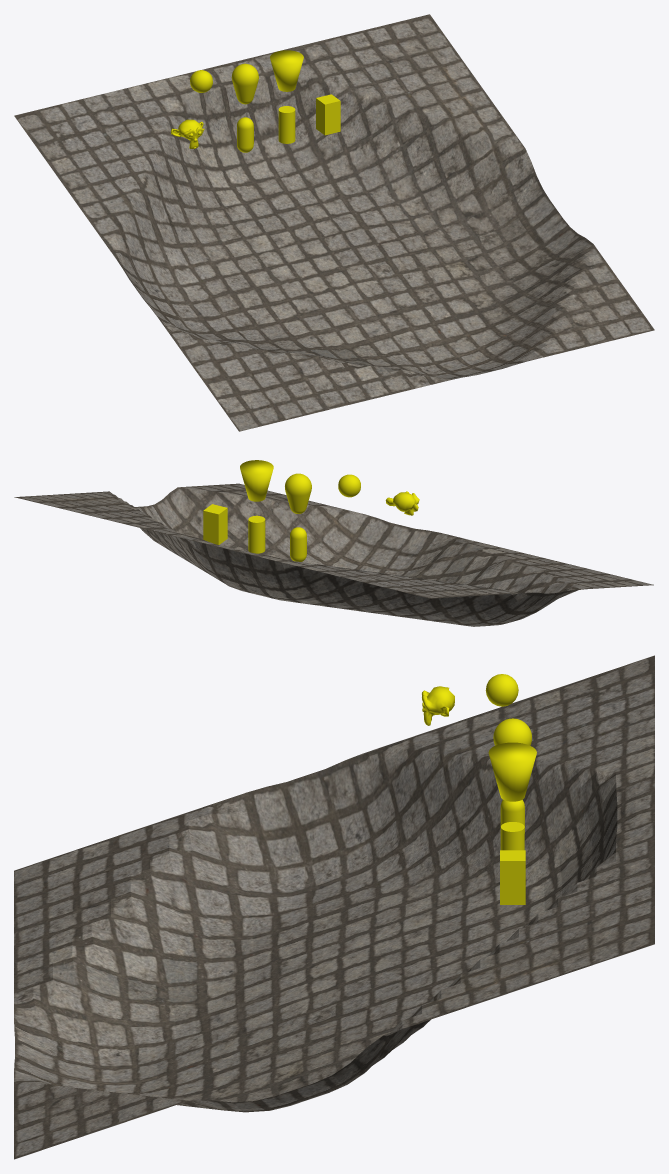
Rendered from shapes.gltf.
3 renders of one model, top to bottom at view 1: azimuth 30°, elevation 25°; view 2: azimuth 150°, elevation 25°; view 3: azimuth 270°, elevation 25°, orthographic. The views are drawn at different scales.
Visible parts, largest first — view 1: Plane, DynamicCone, DynamicBox, DynamicTaperedCapsule, DynamicCylinder; view 2: Plane, DynamicCone, DynamicBox, DynamicTaperedCapsule, DynamicCylinder, DynamicCapsule, MonkeyMesh, DynamicSphere; view 3: Plane, DynamicCone, DynamicBox, MonkeyMesh, DynamicSphere, DynamicTaperedCapsule.
Boxes of the visible parts, left/top/right/bottom form: Plane: left=14, top=14, right=654, bottom=431; DynamicCone: left=270, top=50, right=303, bottom=91; DynamicBox: left=316, top=94, right=340, bottom=135; DynamicTaperedCapsule: left=231, top=63, right=258, bottom=104; DynamicCylinder: left=278, top=106, right=295, bottom=143; Plane: left=14, top=483, right=653, bottom=626; DynamicCone: left=240, top=460, right=273, bottom=501; DynamicBox: left=203, top=504, right=227, bottom=544; DynamicTaperedCapsule: left=285, top=473, right=311, bottom=513; DynamicCylinder: left=248, top=515, right=265, bottom=553; DynamicCapsule: left=290, top=527, right=306, bottom=561; MonkeyMesh: left=385, top=491, right=419, bottom=515; DynamicSphere: left=338, top=474, right=360, bottom=497; Plane: left=14, top=655, right=654, bottom=1159; DynamicCone: left=488, top=742, right=536, bottom=801; DynamicBox: left=500, top=850, right=525, bottom=904; MonkeyMesh: left=422, top=686, right=454, bottom=725; DynamicSphere: left=485, top=674, right=518, bottom=706; DynamicTaperedCapsule: left=493, top=718, right=531, bottom=745.
Size of the model in its own units: 14.12 by 7.29 by 13.24.
Materials: 2 (1 with a texture image).
